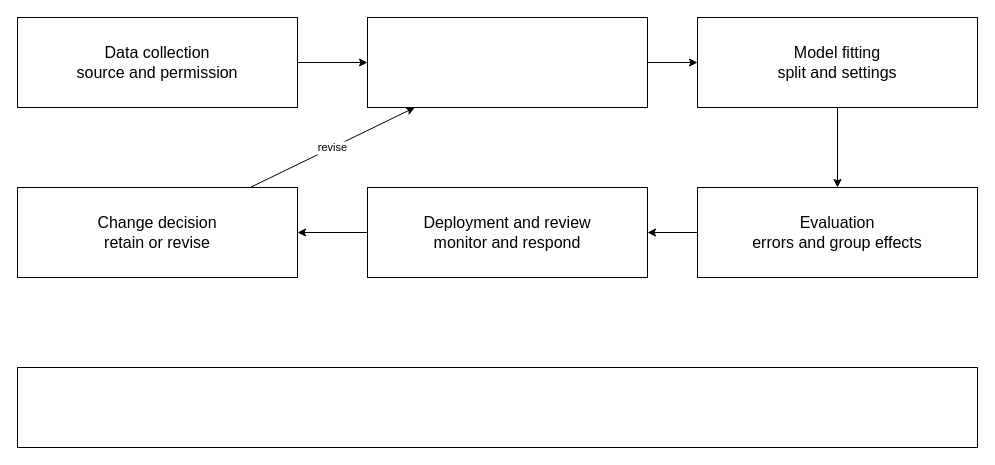
The diagram is 995 pixels wide and 465 high, and some of its shapes have lost their labels. Here are the shapes that lost their labels. From the top down, the centre of each, then its label:
(507,62): Preparation quality and leakage
(497,407): Versioned evidence: data hashes, code, environment, logs and reviewer decisions
